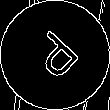P_SE: (24, 24, 86, 86)
